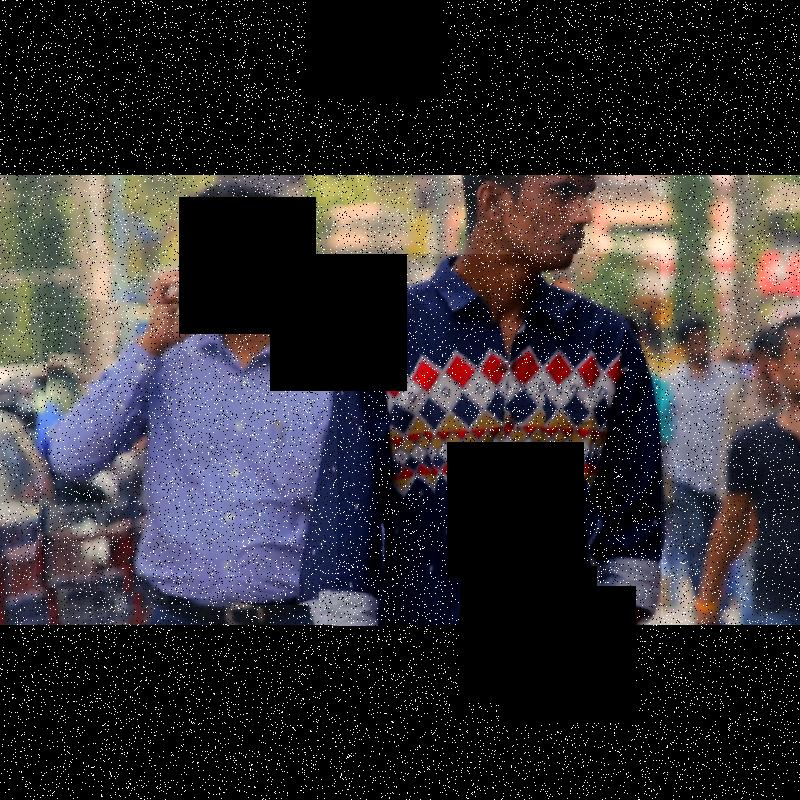Shirt: (327, 254, 661, 626), (43, 309, 337, 605)
